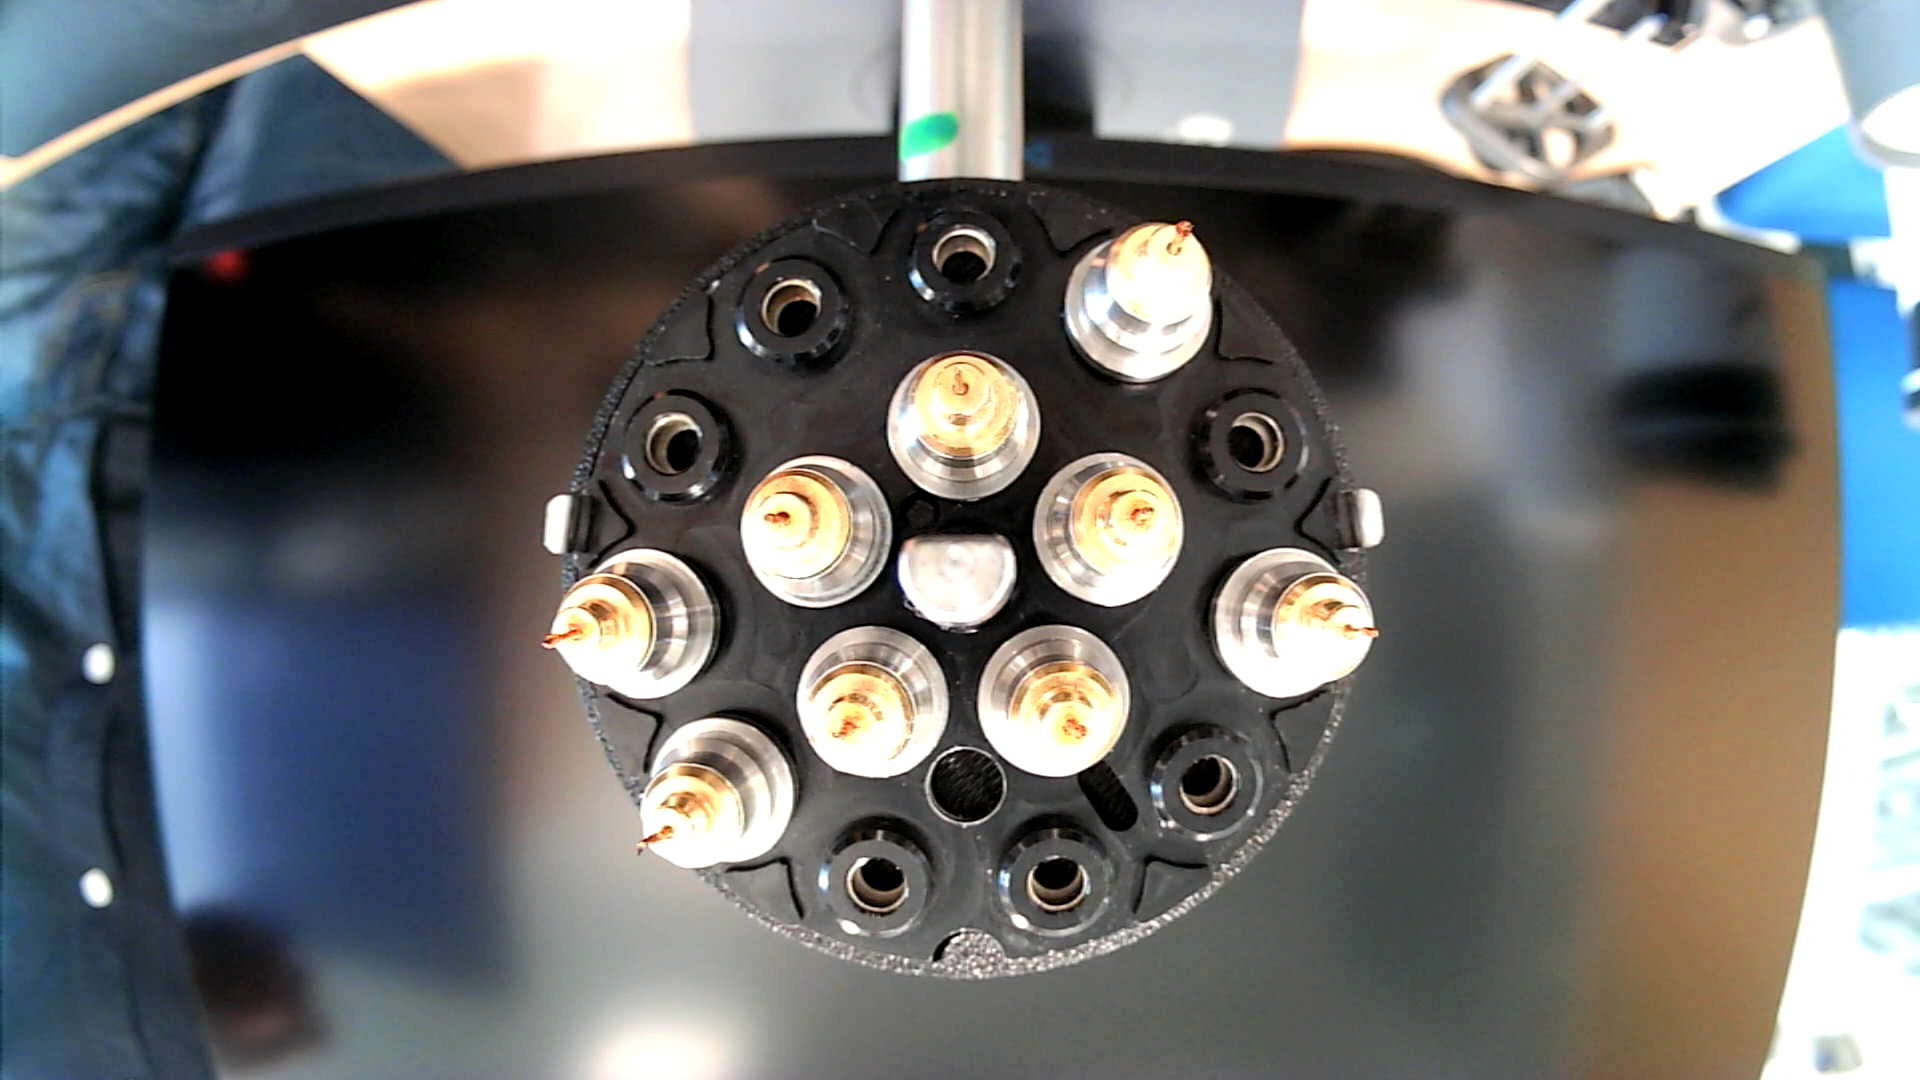empty: (992, 814, 1120, 945), (815, 814, 939, 949), (729, 249, 858, 376), (615, 382, 740, 512), (1143, 719, 1270, 845), (1183, 386, 1309, 512), (902, 200, 1030, 320)
hole: (924, 744, 1010, 832)
pin: (542, 546, 727, 700), (632, 712, 798, 874), (1209, 543, 1381, 700), (1062, 214, 1213, 386), (884, 347, 1044, 504), (794, 625, 953, 782), (738, 451, 894, 611), (975, 622, 1131, 779), (1030, 448, 1184, 607)
rod: (893, 529, 1021, 636)
